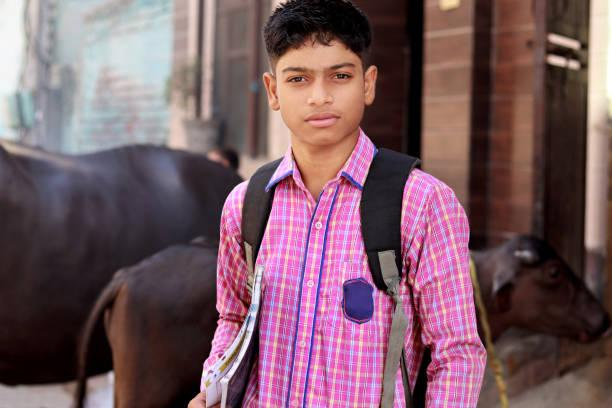Human: (227, 3, 483, 408)
